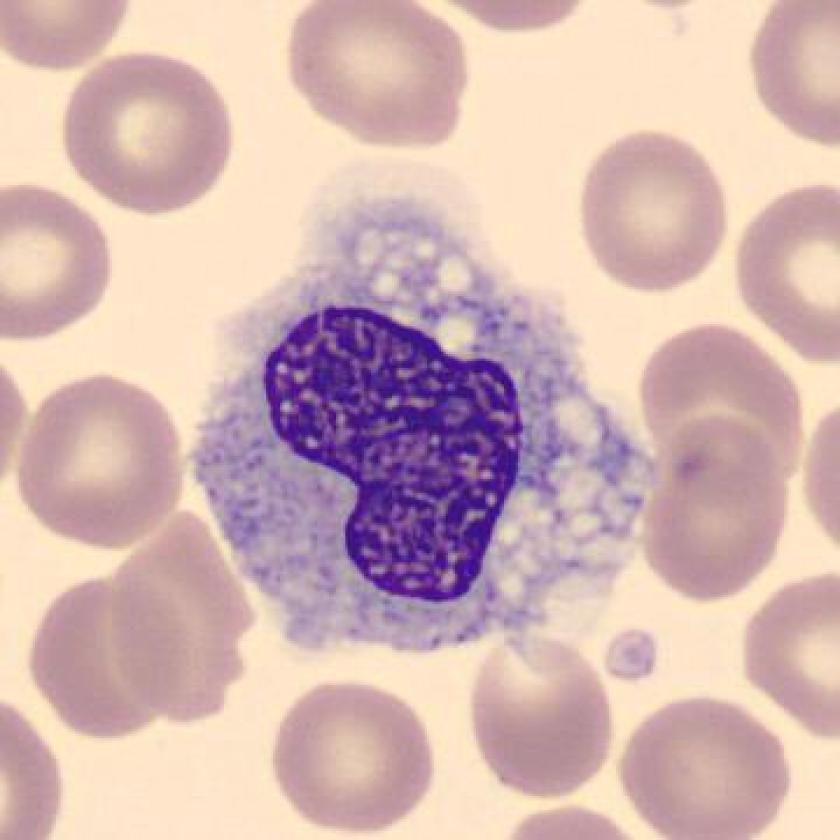monocyte: (162, 184, 671, 677)
